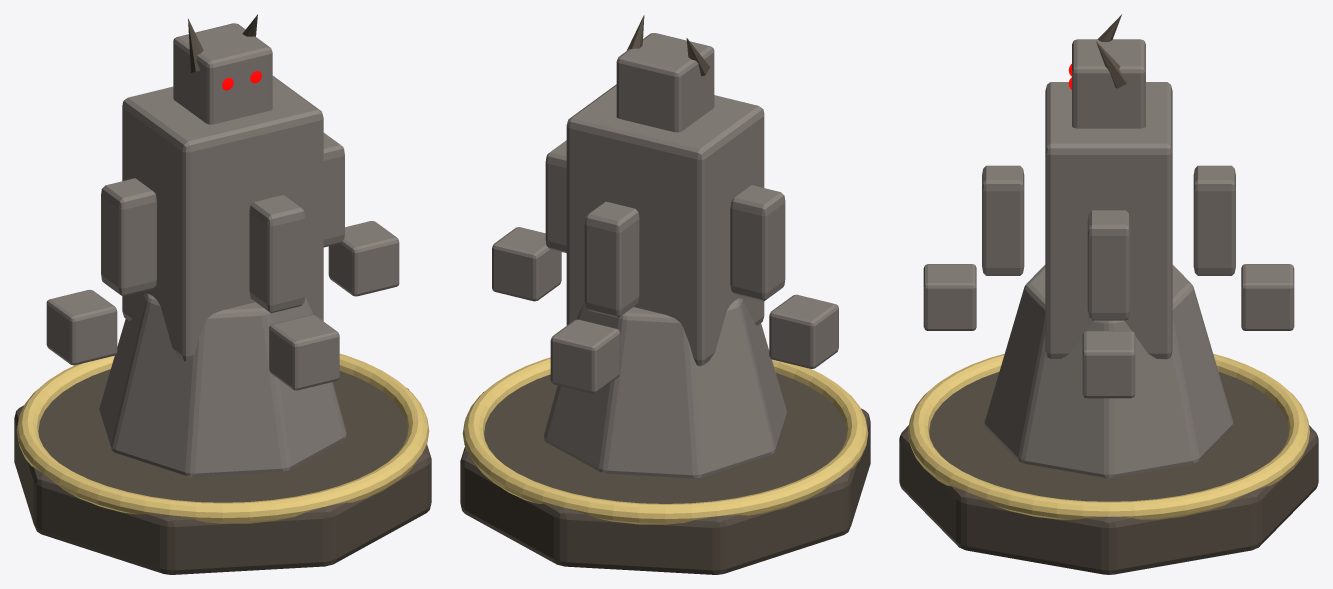
The model's file is boss.fbx.
3 views of the same model, side by side, from view 1: azimuth 30°, elevation 25°; view 2: azimuth 150°, elevation 25°; view 3: azimuth 270°, elevation 25° (orthographic). The views are drawn at different scales.
Visible parts, largest first — view 1: BossBase, BossTorso, BossLower, BossRing, BossHead, BossArm_3, BossArm_2, BossFist_2, BossFist_3, BossFist_0, BossArm_0; view 2: BossBase, BossTorso, BossLower, BossRing, BossHead, BossArm_1, BossArm_2, BossFist_1, BossFist_2, BossFist_0, BossArm_0; view 3: BossBase, BossLower, BossTorso, BossRing, BossHead, BossArm_0, BossArm_1, BossArm_3, BossFist_0, BossFist_1, BossFist_3.
Part boxes in pixels (x1,y1,x2,y2): BossBase: (14,369,431,574); BossTorso: (122,76,323,362); BossLower: (99,293,346,476); BossRing: (16,353,429,523); BossHead: (173,23,272,124); BossArm_3: (249,195,305,313); BossArm_2: (101,178,156,296); BossFist_2: (46,289,117,365); BossFist_3: (269,315,339,390); BossFist_0: (328,221,399,296); BossArm_0: (323,133,344,247); BossBase: (460,373,870,574); BossTorso: (566,84,764,366); BossLower: (544,298,786,478); BossRing: (462,357,868,524); BossHead: (616,33,714,132); BossArm_1: (584,201,639,317); BossArm_2: (730,185,785,301); BossFist_1: (550,319,620,393); BossFist_2: (769,294,838,368); BossFist_0: (492,227,561,301); BossArm_0: (545,140,566,252); BossBase: (899,372,1318,574); BossLower: (984,265,1233,478); BossTorso: (1045,82,1172,359); BossRing: (908,354,1309,519); BossHead: (1072,39,1145,128); BossArm_0: (1087,210,1130,320); BossArm_1: (1193,165,1235,275); BossArm_3: (982,165,1024,275); BossFist_0: (1082,331,1135,398); BossFist_1: (1241,264,1294,330); BossFist_3: (923,264,976,330).
Bounding box in the file's own units: 3.96 × 3.96 × 4.82.
